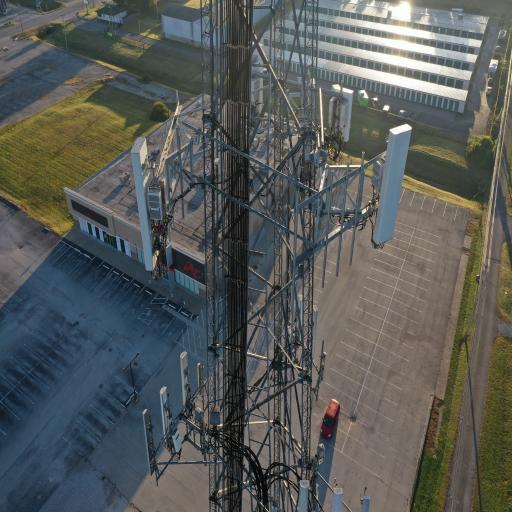supporting_tower: (138, 0, 411, 512)
